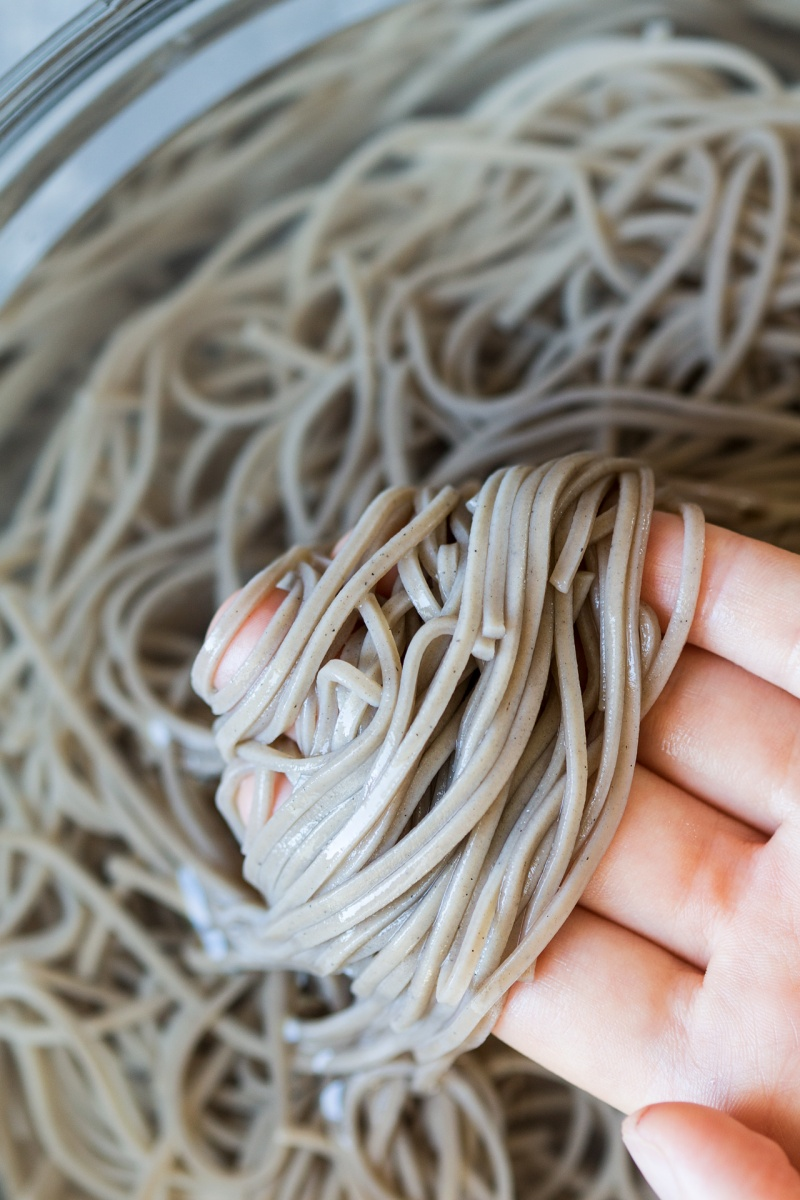Soba: (2, 34, 750, 1200), (198, 478, 677, 1039)
